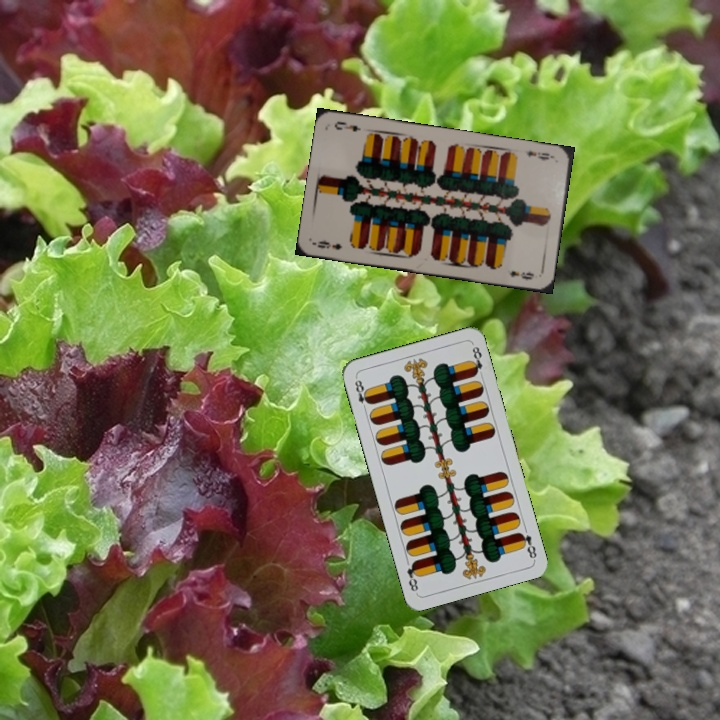E8: (351, 374, 373, 414), (515, 528, 539, 561)
E9: (521, 146, 557, 163), (311, 237, 344, 252)
